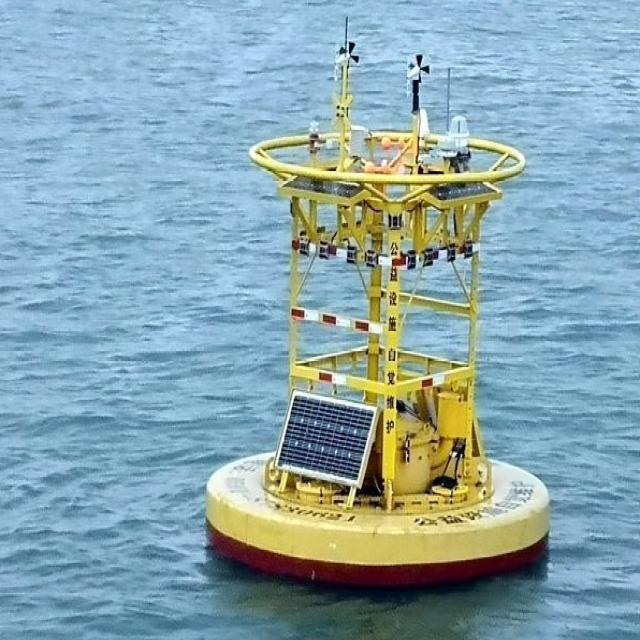houseboat: (193, 6, 553, 586)
